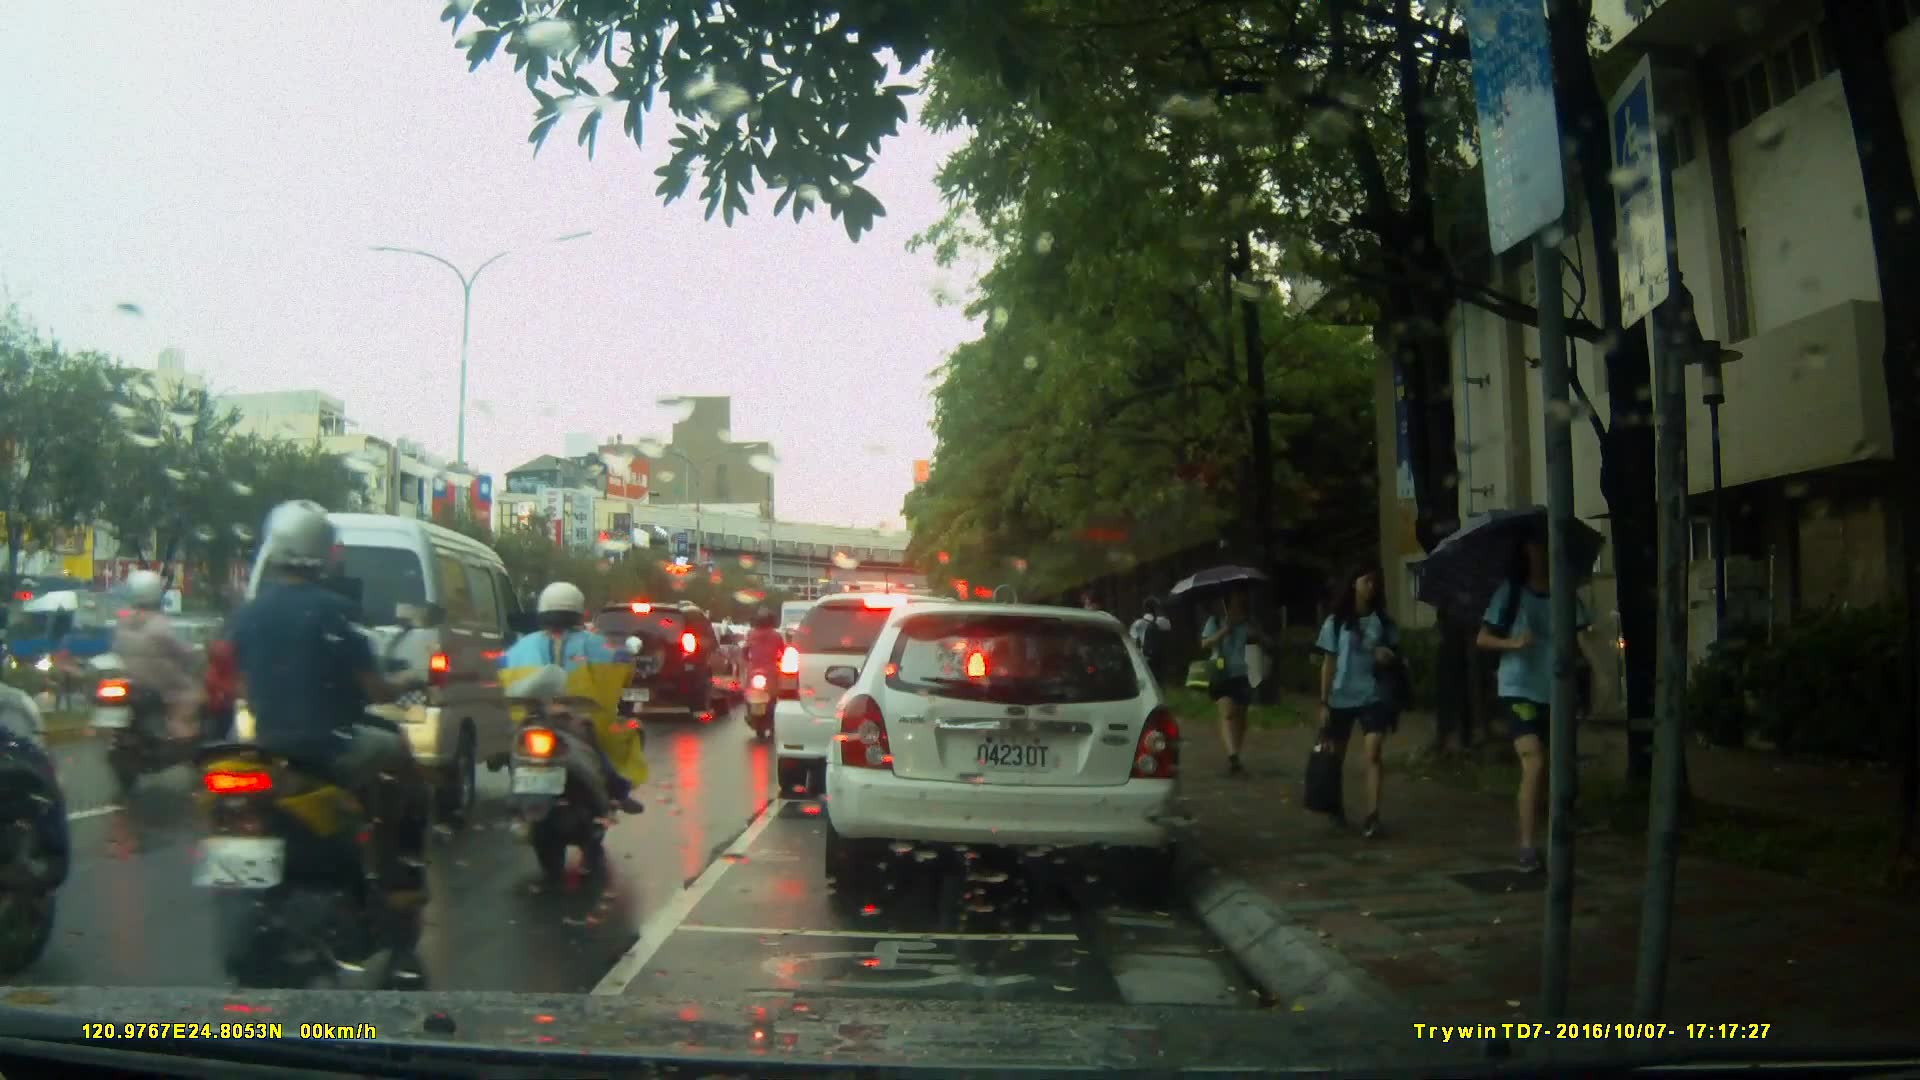pedestrian: (1453, 523, 1598, 886), (1508, 535, 1615, 848), (1306, 553, 1406, 850), (1186, 576, 1263, 784)
rider: (196, 501, 439, 996), (494, 581, 646, 880), (95, 569, 235, 789), (736, 604, 791, 736)
vehicle: (815, 593, 1204, 909), (217, 510, 532, 827), (770, 590, 994, 802), (577, 603, 737, 725)
